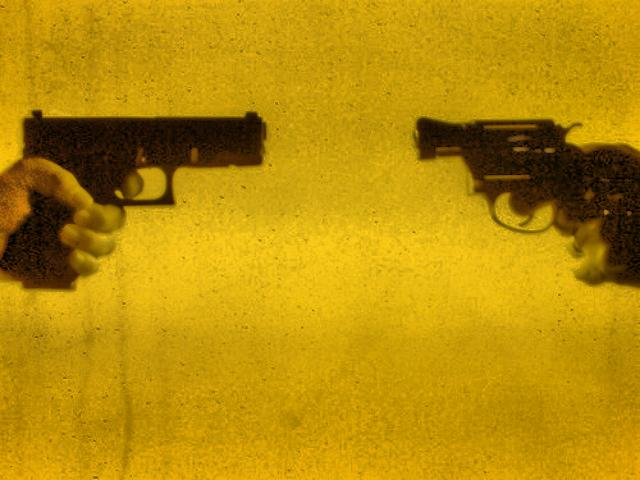pistol: (0, 109, 266, 289), (411, 112, 635, 284)
